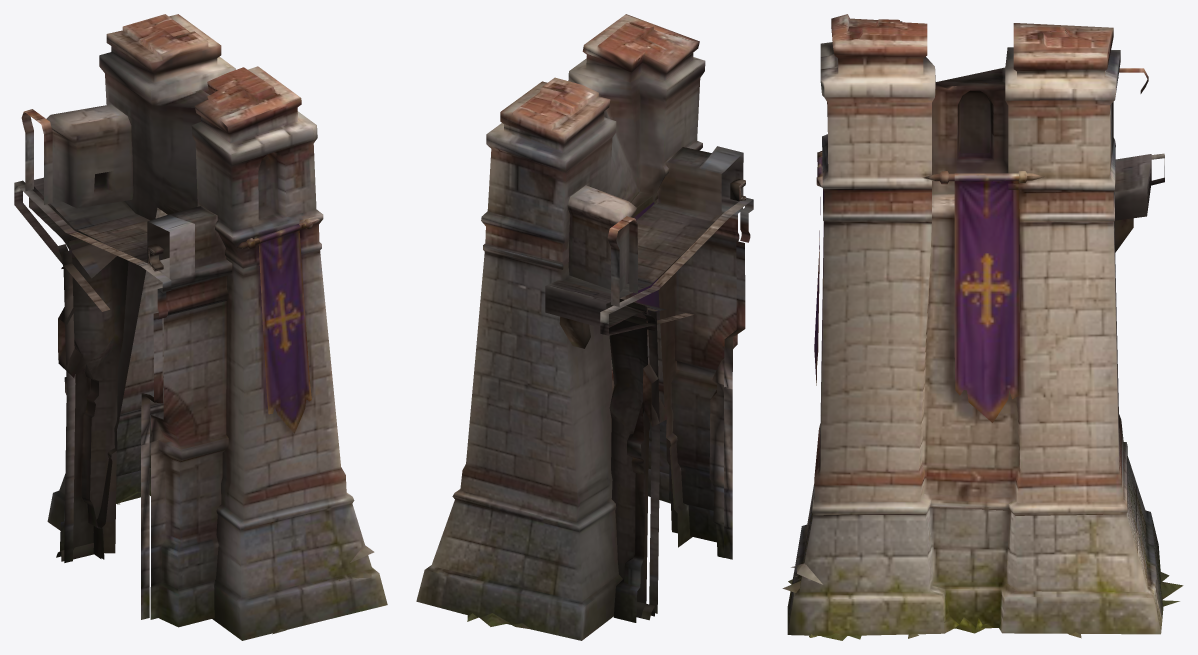
File: WallRunFront_39.fbx
3 views of the same model, side by side, from view 1: azimuth 30°, elevation 25°; view 2: azimuth 150°, elevation 25°; view 3: azimuth 270°, elevation 25° (orthographic). The views are drawn at different scales.
Visible parts, largest first — view 1: Imported wall section.027; view 2: Imported wall section.027; view 3: Imported wall section.027.
Boxes of the visible parts, x1,y1,x2,y2 form: Imported wall section.027: [14, 14, 387, 640]; Imported wall section.027: [416, 14, 753, 640]; Imported wall section.027: [782, 14, 1183, 640].
Bounding box in the file's own units: 300 × 700 × 453.
Materials: 1 (1 with a texture image).
